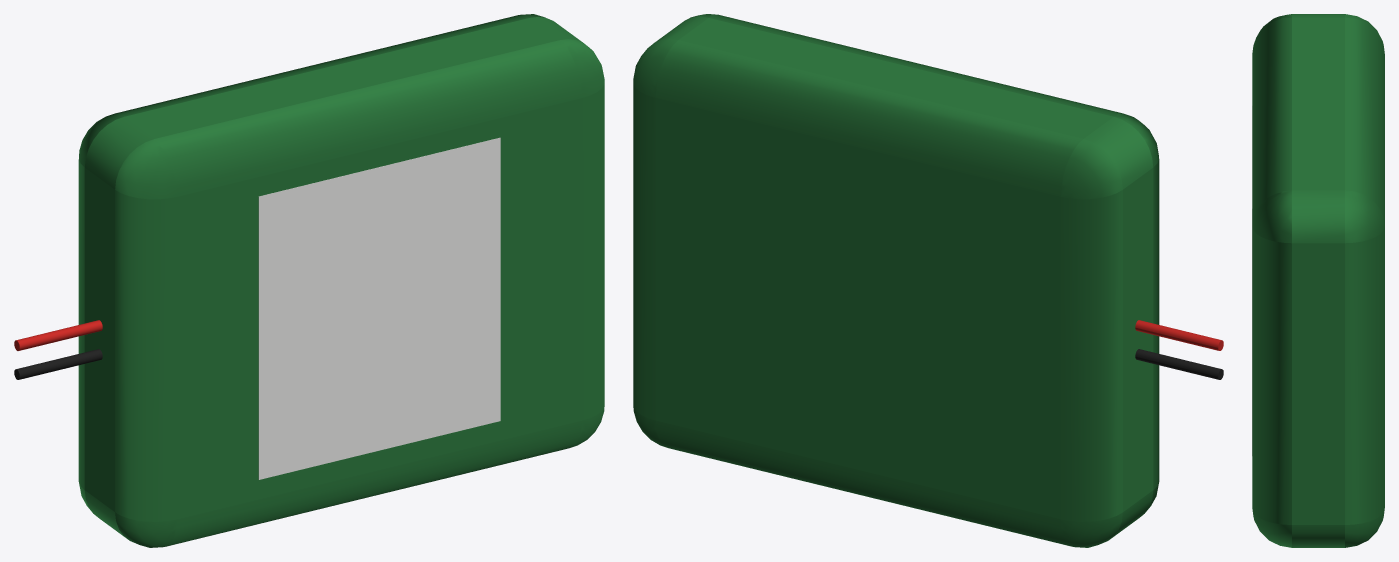
The model's file is molicel-m35a-3s-bb.glb.
3 views of the same model, side by side, from view 1: azimuth 30°, elevation 25°; view 2: azimuth 150°, elevation 25°; view 3: azimuth 270°, elevation 25° (orthographic). The views are drawn at different scales.
Parts seen in each view (by area): view 1: body, label, lead_black, lead_red; view 2: body, lead_red, lead_black; view 3: body, label.
Boxes of the visible parts, box(x1,y1,x2,y2) form: body: box(78, 14, 604, 547); label: box(258, 137, 500, 479); lead_black: box(14, 349, 102, 379); lead_red: box(14, 320, 102, 350); body: box(633, 14, 1159, 547); lead_red: box(1135, 320, 1223, 350); lead_black: box(1135, 349, 1223, 379); body: box(1252, 14, 1384, 547); label: box(1252, 106, 1252, 455).
Size of the model in its own units: 82 by 56 by 19.03.
